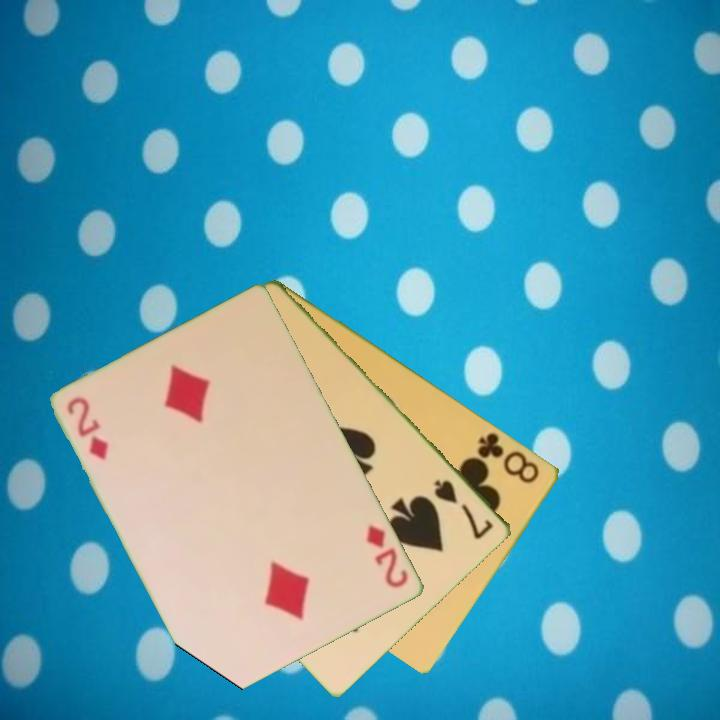2d: (363, 521, 412, 591), (64, 393, 112, 464)
7s: (431, 475, 497, 542)
8c: (474, 429, 543, 487)
